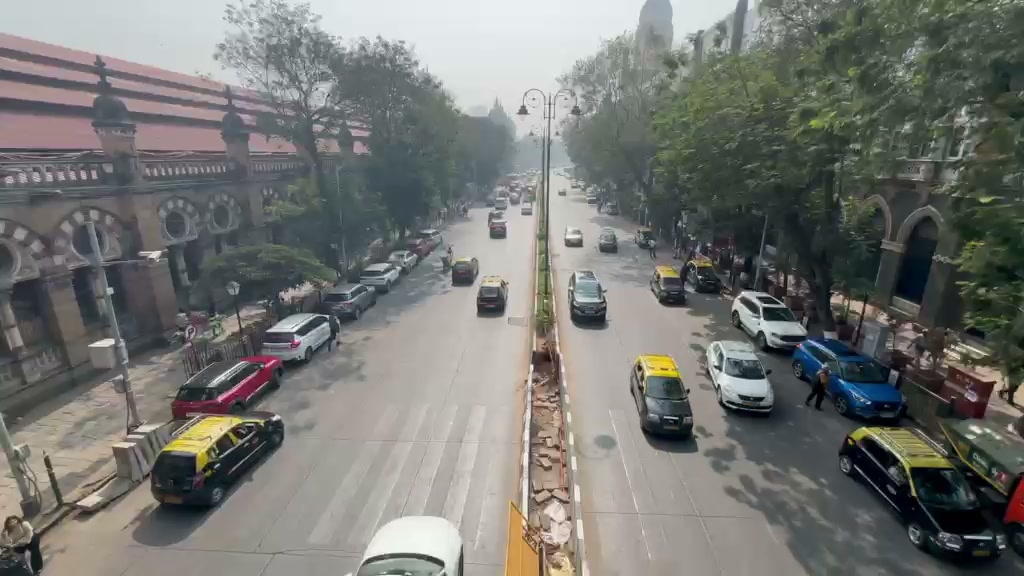car: (837, 423, 1005, 564), (150, 411, 285, 509), (797, 335, 908, 424), (170, 354, 284, 419), (355, 514, 464, 575), (816, 356, 907, 424), (629, 353, 695, 440), (790, 336, 900, 387), (704, 340, 776, 416), (730, 291, 809, 352), (259, 311, 340, 367), (318, 282, 377, 321), (568, 271, 608, 326), (650, 264, 687, 306), (476, 274, 509, 315), (358, 262, 401, 293), (685, 264, 723, 293), (451, 256, 479, 286), (387, 249, 418, 271), (597, 228, 618, 253), (488, 213, 508, 239), (564, 226, 584, 247)
truck: (938, 417, 1024, 520)
